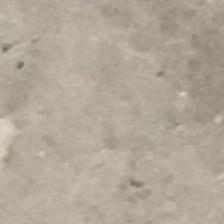Non_Crack: (51, 17, 216, 201)
